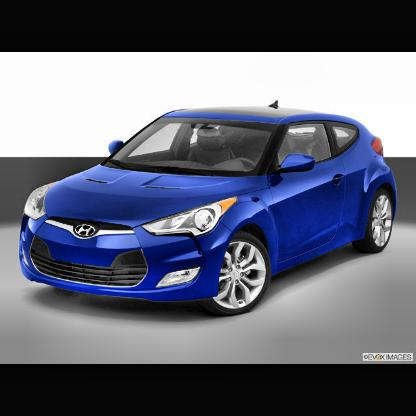Hyundai Veloster Hatchback 2012: (21, 101, 401, 317)
